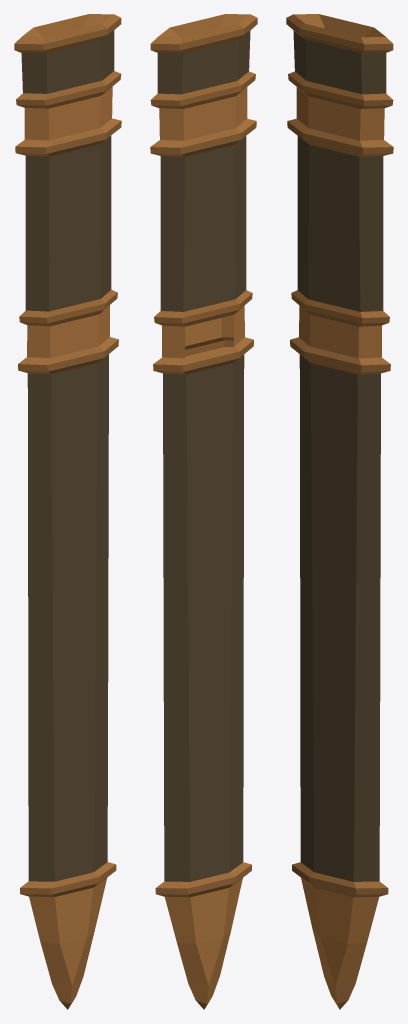
The model's file is SM_pwe_fantasy_sword_scabbard_03.fbx.
3 renders of one model, left to right at view 1: azimuth 30°, elevation 25°; view 2: azimuth 210°, elevation 25°; view 3: azimuth 330°, elevation 25°, orthographic.
Visible parts, largest first — view 1: SM_pwe_fantasy_sword_scabbard_03; view 2: SM_pwe_fantasy_sword_scabbard_03; view 3: SM_pwe_fantasy_sword_scabbard_03.
Part boxes in pixels (x1,y1,x2,y2): SM_pwe_fantasy_sword_scabbard_03: [14, 14, 121, 1009]; SM_pwe_fantasy_sword_scabbard_03: [150, 14, 257, 1009]; SM_pwe_fantasy_sword_scabbard_03: [286, 14, 393, 1009].
Size of the model in its own units: 10.4 by 91.14 by 2.58.
